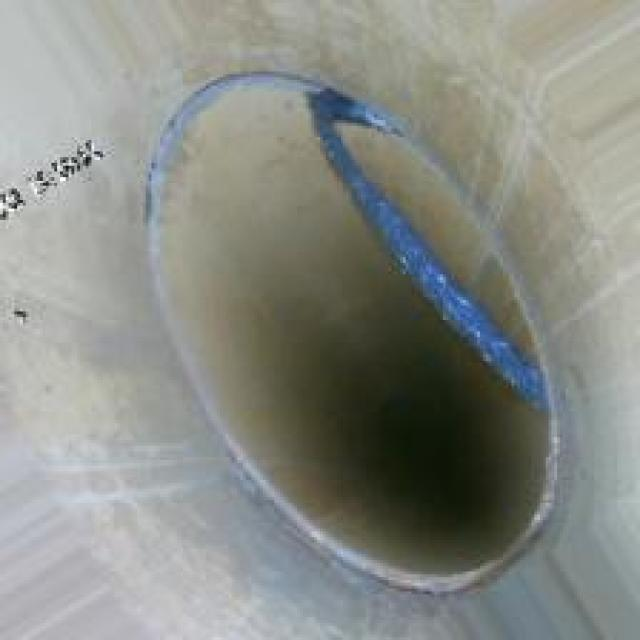joint: (134, 60, 560, 589)
